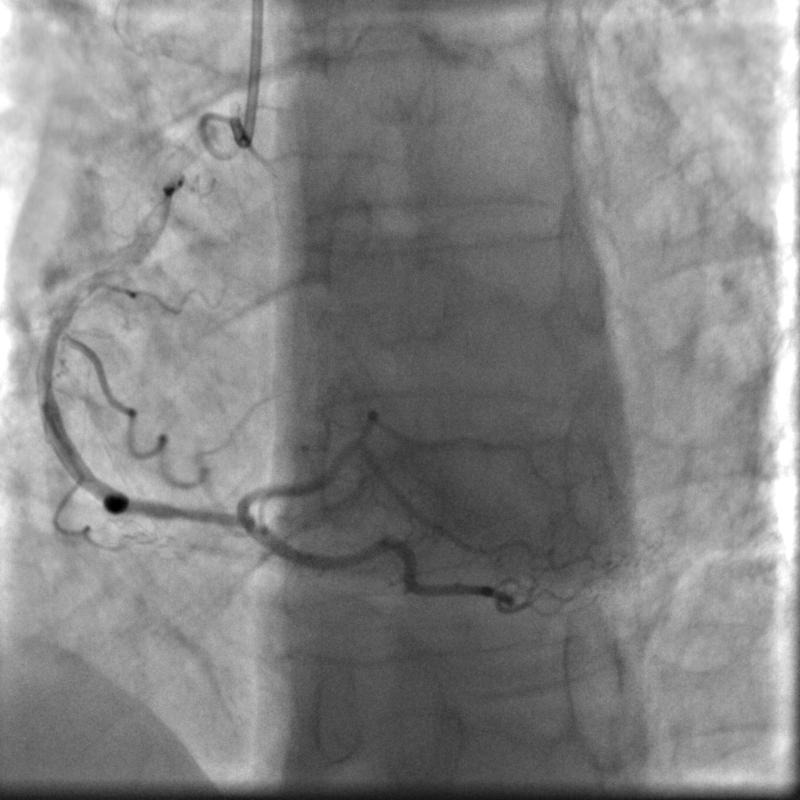Stenosis: (157, 492, 242, 536)
